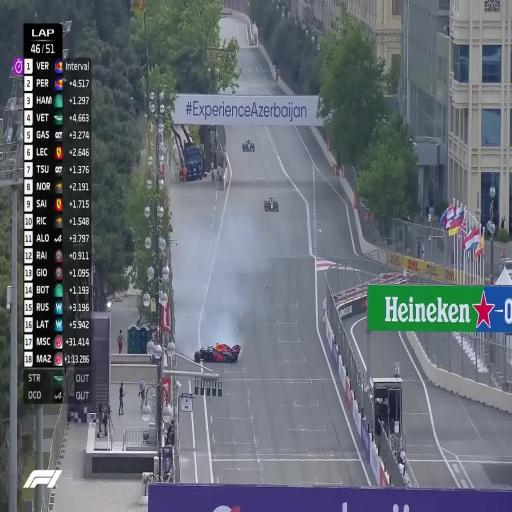f1_car: (194, 343, 241, 362), (264, 197, 278, 211), (242, 139, 255, 150)
